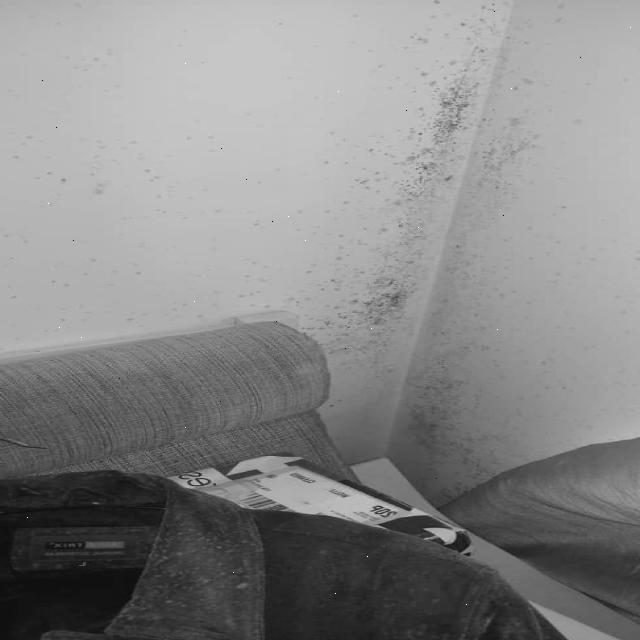stain marks: (240, 0, 640, 491), (0, 240, 236, 338), (0, 125, 234, 211)
